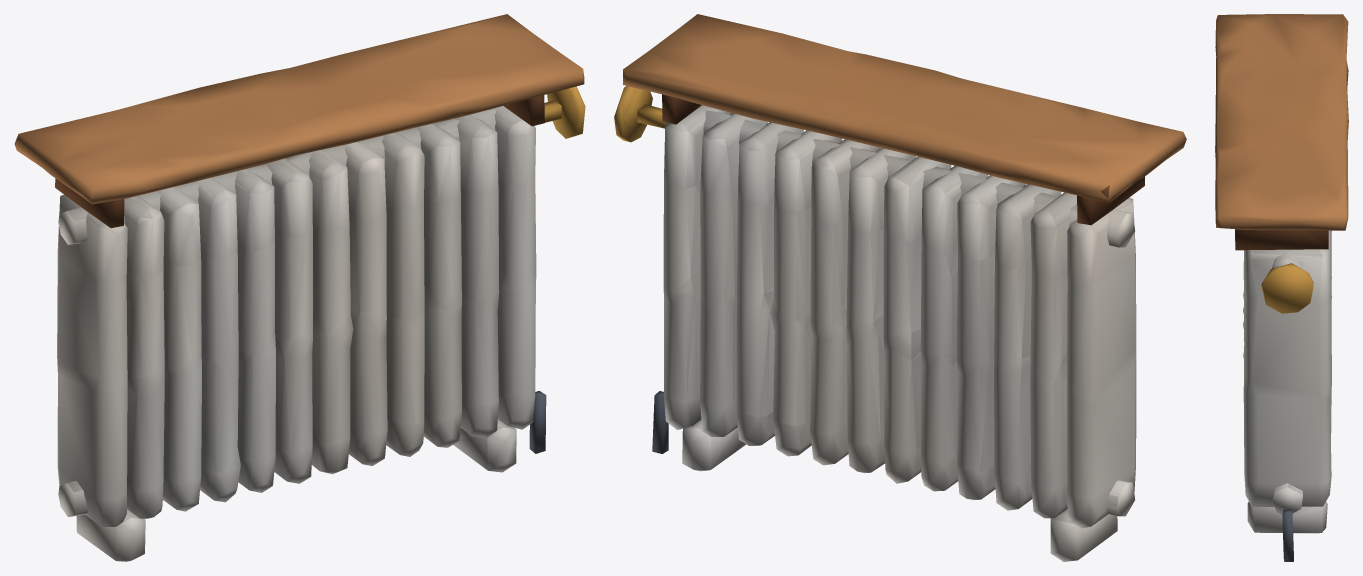
Rendered from frost_radiator_lod2.glb.
The picture shows the model from 3 angles, left to right: view 1: azimuth 30°, elevation 25°; view 2: azimuth 150°, elevation 25°; view 3: azimuth 270°, elevation 25°; orthographic projection. The views are drawn at different scales.
Parts seen in each view (by area): view 1: frost_radiator.001; view 2: frost_radiator.001; view 3: frost_radiator.001.
Part boxes in pixels (x1,y1,x2,y2): frost_radiator.001: (14,14,585,561); frost_radiator.001: (614,14,1186,561); frost_radiator.001: (1215,14,1348,561).
Bounding box in the file's own units: 42.15 × 31.91 × 11.14.
